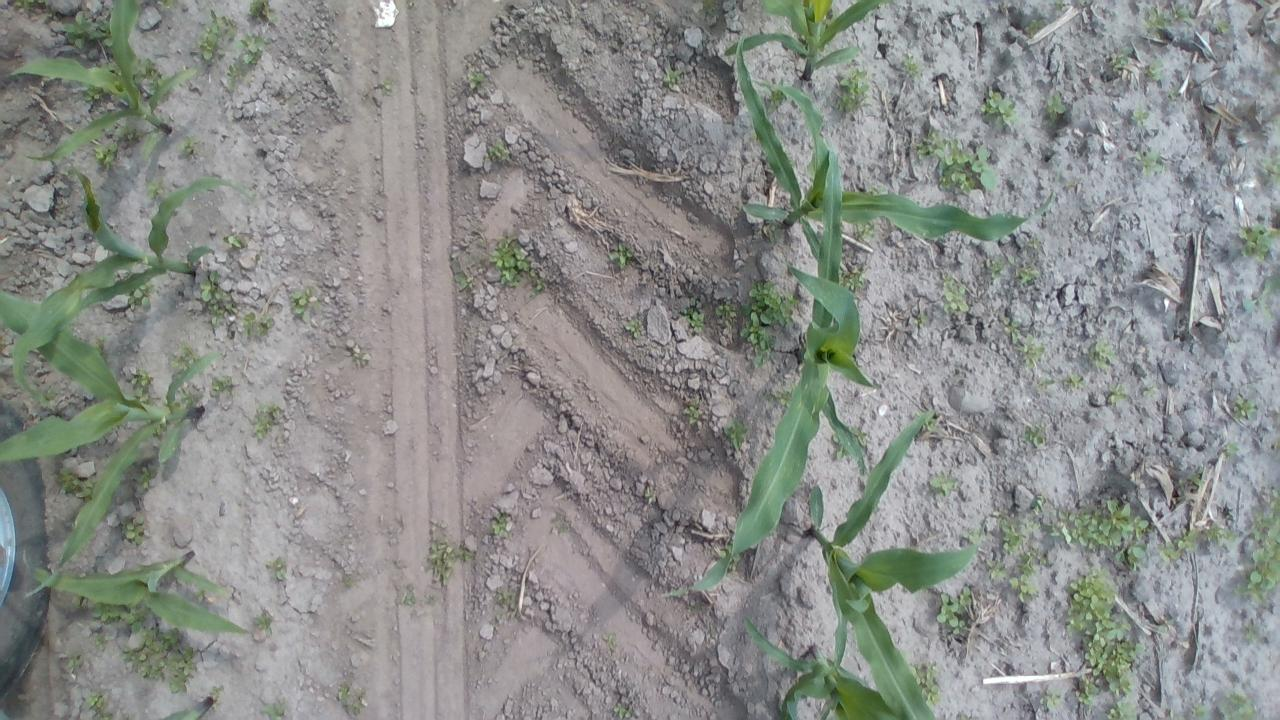Maize: (664, 146, 882, 596), (732, 30, 1056, 265), (0, 289, 227, 602), (8, 166, 251, 409), (802, 404, 982, 720), (5, 0, 202, 165), (736, 612, 936, 720), (27, 550, 251, 640), (722, 0, 895, 89), (158, 696, 218, 720)
Weeds: (1070, 567, 1140, 703), (1030, 496, 1152, 572), (739, 277, 797, 372), (920, 128, 996, 196), (1239, 494, 1280, 606), (122, 623, 190, 688), (488, 235, 552, 298), (428, 518, 474, 587), (61, 13, 112, 55), (198, 269, 236, 325), (1007, 546, 1046, 600), (92, 124, 136, 170), (935, 587, 976, 636), (197, 11, 236, 62), (1142, 0, 1194, 36), (1236, 221, 1280, 263), (834, 65, 870, 115), (1242, 272, 1280, 318), (994, 507, 1030, 554), (910, 659, 944, 707), (980, 89, 1016, 128), (250, 400, 285, 440), (1160, 530, 1198, 564), (1218, 690, 1260, 720), (58, 468, 96, 501), (940, 275, 971, 315), (1168, 467, 1206, 499), (334, 682, 369, 716), (288, 284, 318, 321), (236, 32, 266, 67), (681, 297, 709, 334), (1016, 336, 1048, 368), (239, 310, 274, 339), (120, 601, 149, 635), (724, 413, 750, 450), (119, 514, 148, 547), (1104, 694, 1140, 720), (450, 261, 478, 294), (1109, 44, 1136, 78), (134, 57, 164, 87), (84, 690, 114, 720), (1205, 522, 1237, 550), (1228, 392, 1260, 420), (168, 346, 200, 373), (1133, 148, 1163, 176), (982, 253, 1012, 280), (92, 602, 128, 624), (928, 470, 956, 498), (899, 53, 925, 83), (1088, 338, 1114, 368), (494, 588, 519, 618), (131, 369, 155, 400), (246, 0, 278, 23), (265, 554, 291, 582), (608, 242, 634, 270), (208, 373, 235, 399), (126, 284, 154, 309), (1015, 262, 1042, 287), (842, 267, 867, 293), (714, 299, 738, 326), (487, 138, 511, 164), (1046, 92, 1068, 120), (395, 586, 423, 608), (376, 74, 400, 99), (1000, 316, 1024, 341), (1260, 156, 1280, 186), (1038, 687, 1062, 712), (1023, 422, 1046, 448), (986, 556, 1007, 584), (350, 344, 373, 369), (767, 83, 788, 110), (263, 699, 290, 720), (1106, 383, 1130, 406), (921, 408, 942, 434), (830, 435, 850, 461), (136, 463, 156, 489), (146, 176, 166, 202), (720, 548, 743, 570), (490, 514, 513, 536), (625, 318, 646, 342), (770, 386, 795, 406), (1218, 442, 1243, 461), (14, 0, 50, 13), (764, 222, 786, 243), (62, 650, 83, 672), (660, 64, 681, 86), (850, 425, 870, 448), (1156, 616, 1180, 635), (463, 70, 487, 89), (78, 84, 102, 103), (551, 515, 572, 536), (1064, 372, 1088, 390), (1033, 377, 1058, 394), (252, 614, 272, 635), (962, 526, 984, 545), (854, 221, 876, 240), (224, 232, 246, 251), (227, 60, 246, 82), (179, 135, 198, 157), (1186, 702, 1209, 720), (1242, 622, 1262, 642), (614, 702, 636, 720), (1144, 58, 1162, 80), (684, 400, 702, 422), (1130, 106, 1148, 127), (1141, 382, 1160, 401), (601, 632, 619, 652), (1026, 17, 1046, 35), (1212, 16, 1231, 34), (642, 486, 659, 506), (1272, 415, 1280, 454), (95, 334, 108, 356), (915, 312, 930, 331), (152, 0, 177, 11), (1026, 233, 1042, 250), (90, 635, 108, 649), (194, 586, 208, 604), (339, 572, 356, 586), (1164, 90, 1182, 102), (184, 393, 198, 407), (1055, 0, 1069, 11)
